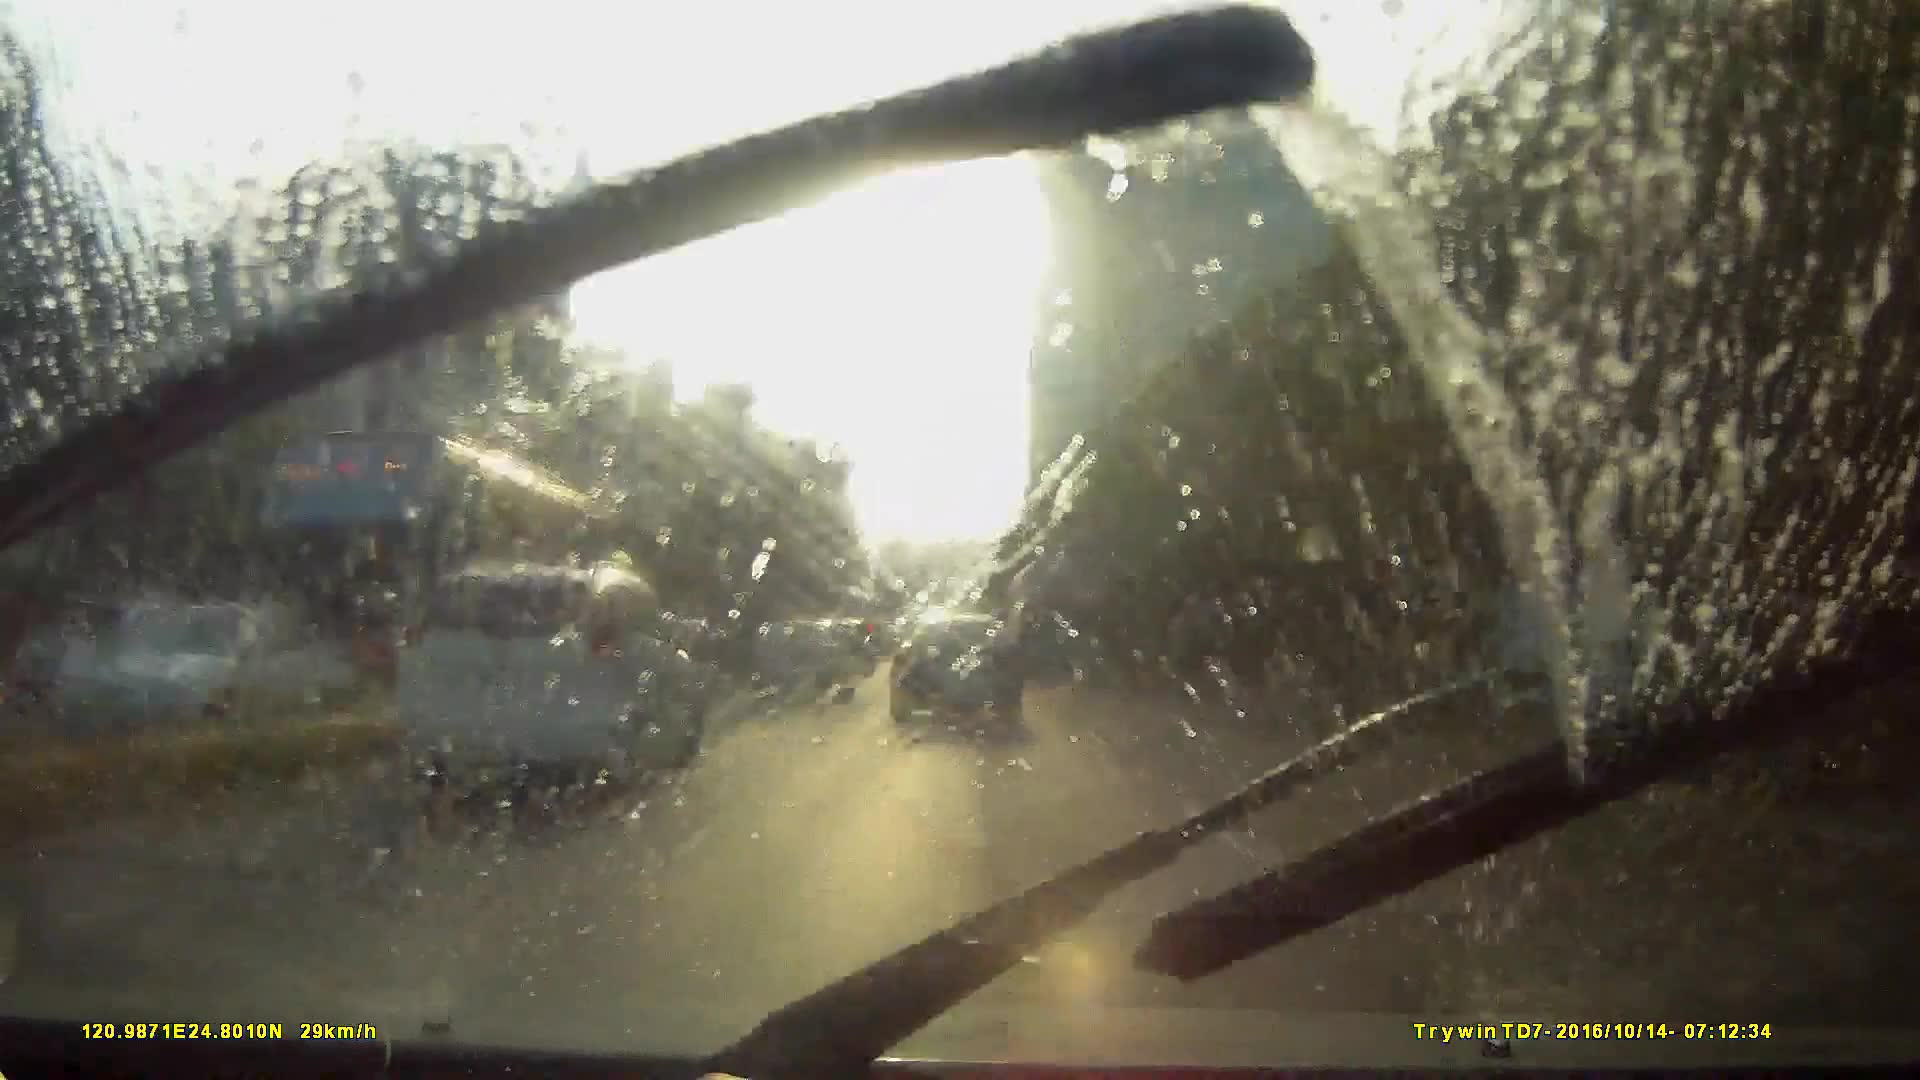vehicle: (190, 415, 642, 733), (251, 556, 684, 868), (402, 562, 707, 791), (890, 607, 1022, 737), (1004, 564, 1109, 690), (745, 624, 853, 711), (866, 638, 915, 687)
